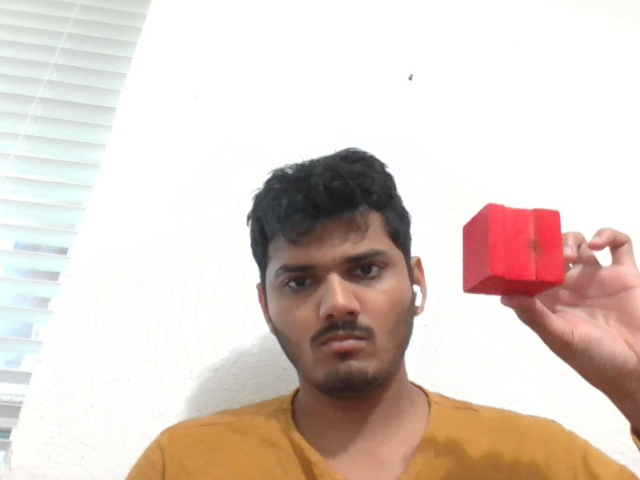RedBlock: (463, 203, 566, 297)
